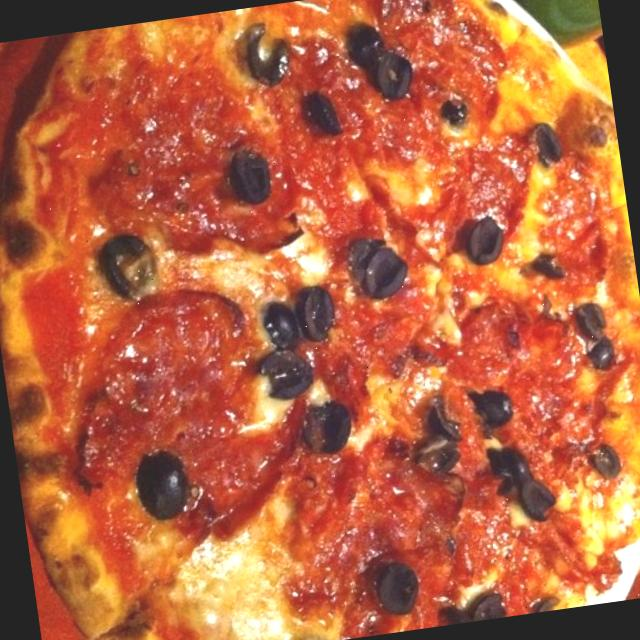Olive: (235, 286, 364, 468), (463, 373, 572, 529), (333, 0, 426, 128), (383, 391, 474, 486), (95, 214, 181, 314), (202, 132, 291, 226), (355, 533, 441, 630), (122, 425, 208, 522), (450, 182, 526, 288), (560, 292, 636, 378), (334, 228, 414, 298), (522, 122, 582, 184), (581, 421, 630, 490)
cheese: (167, 530, 299, 640), (476, 66, 558, 128)
pizza: (0, 0, 640, 640)
